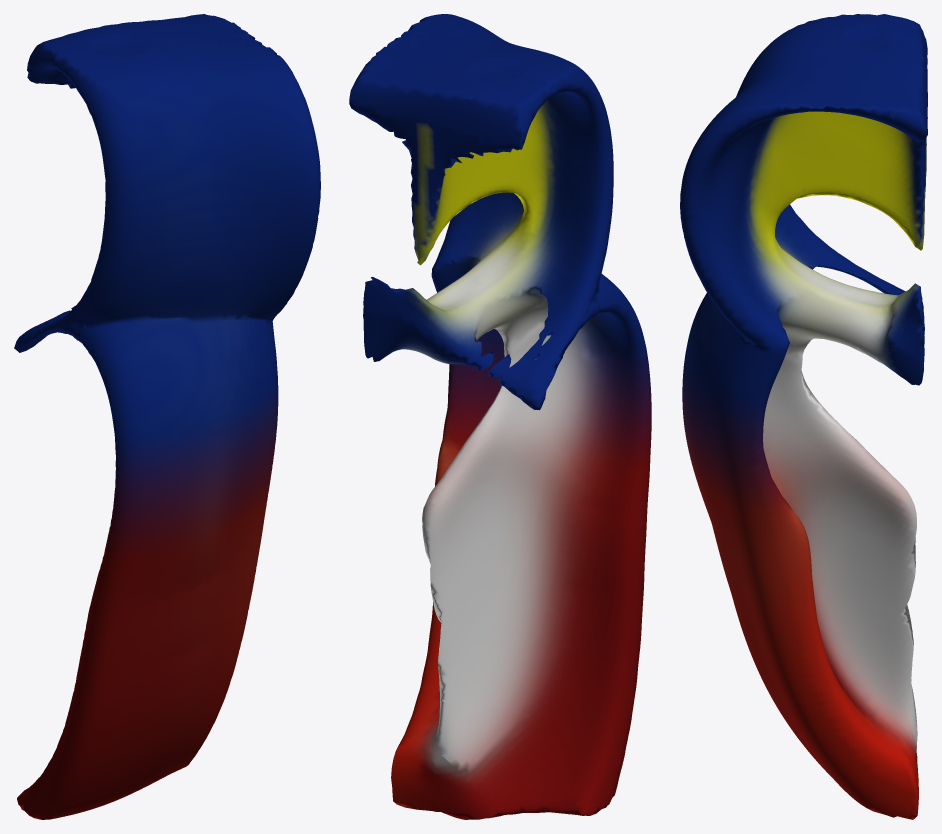
Rendered from TestNew.fbx.
The picture shows the model from 3 angles, left to right: view 1: azimuth 30°, elevation 25°; view 2: azimuth 150°, elevation 25°; view 3: azimuth 270°, elevation 25°; orthographic projection. The views are drawn at different scales.
Visible parts, largest first — view 1: HeartLooping_Renderer__Locked_Mesh_Clone_; view 2: HeartLooping_Renderer__Locked_Mesh_Clone_; view 3: HeartLooping_Renderer__Locked_Mesh_Clone_.
Part boxes in pixels (x1,y1,x2,y2): HeartLooping_Renderer__Locked_Mesh_Clone_: [14, 14, 320, 819]; HeartLooping_Renderer__Locked_Mesh_Clone_: [349, 14, 651, 819]; HeartLooping_Renderer__Locked_Mesh_Clone_: [680, 14, 927, 819].
Bounding box in the file's own units: 56.64 × 183 × 55.2.
